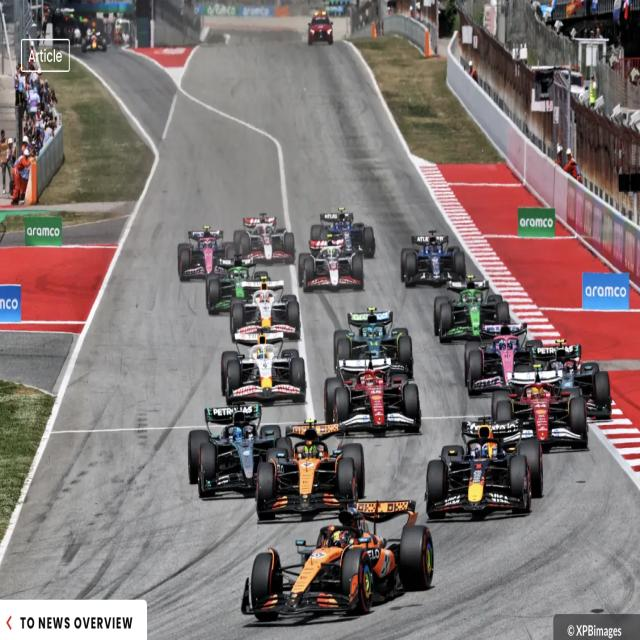Alpine: (464, 320, 544, 400), (177, 225, 237, 284)
Aston Martin: (334, 305, 414, 374)
Ferrari: (324, 356, 423, 442)
Haas: (299, 236, 364, 295), (235, 212, 296, 267)
Kick Sauber: (434, 274, 512, 348), (206, 257, 272, 317)
McLaren: (239, 497, 435, 625), (257, 418, 365, 521)
Mercedes: (188, 404, 293, 499), (516, 339, 613, 428)
Racing Bulls: (220, 330, 307, 411), (230, 274, 300, 341)
Red Bull: (425, 414, 545, 527), (80, 28, 106, 56)
Williams: (401, 229, 467, 289), (312, 205, 376, 261)
